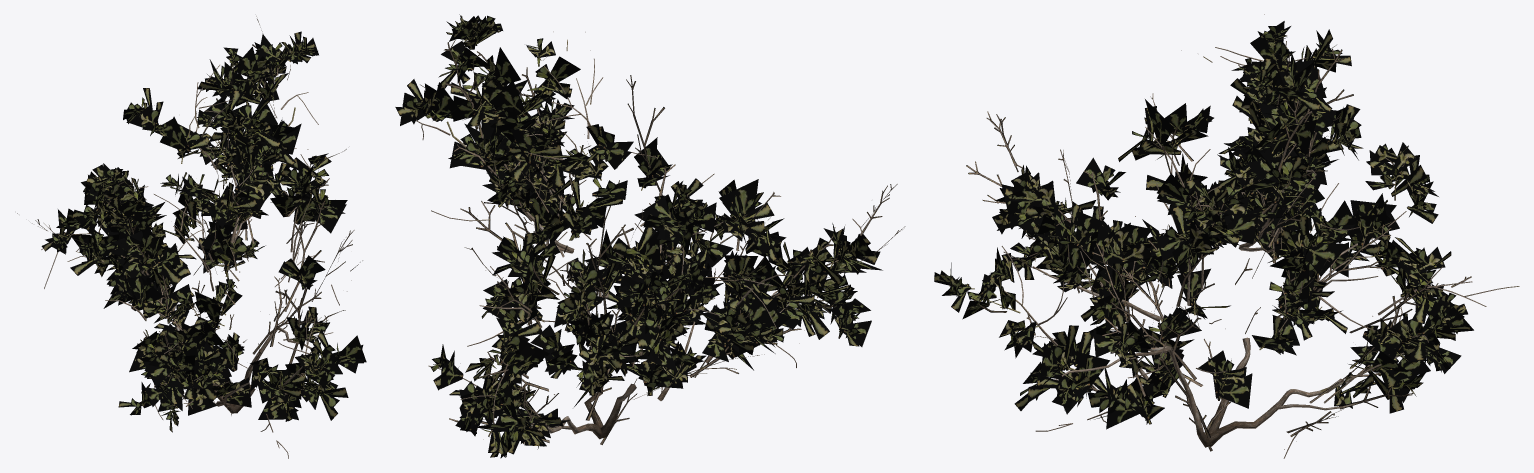
Rendered from searsia_burchellii.glb.
3 views of the same model, side by side, from view 1: azimuth 30°, elevation 25°; view 2: azimuth 150°, elevation 25°; view 3: azimuth 270°, elevation 25° (orthographic). The views are drawn at different scales.
Visible parts, largest first — view 1: searsia_burchellii_small_LOD0; view 2: searsia_burchellii_small_LOD0; view 3: searsia_burchellii_small_LOD0.
Part boxes in pixels (x1,y1,x2,y2): searsia_burchellii_small_LOD0: (17,16,366,458); searsia_burchellii_small_LOD0: (395,14,905,458); searsia_burchellii_small_LOD0: (934,14,1519,458).
Bounding box in the file's own units: 1.72 × 1.94 × 2.29.
Materials: 3 (3 with a texture image).
